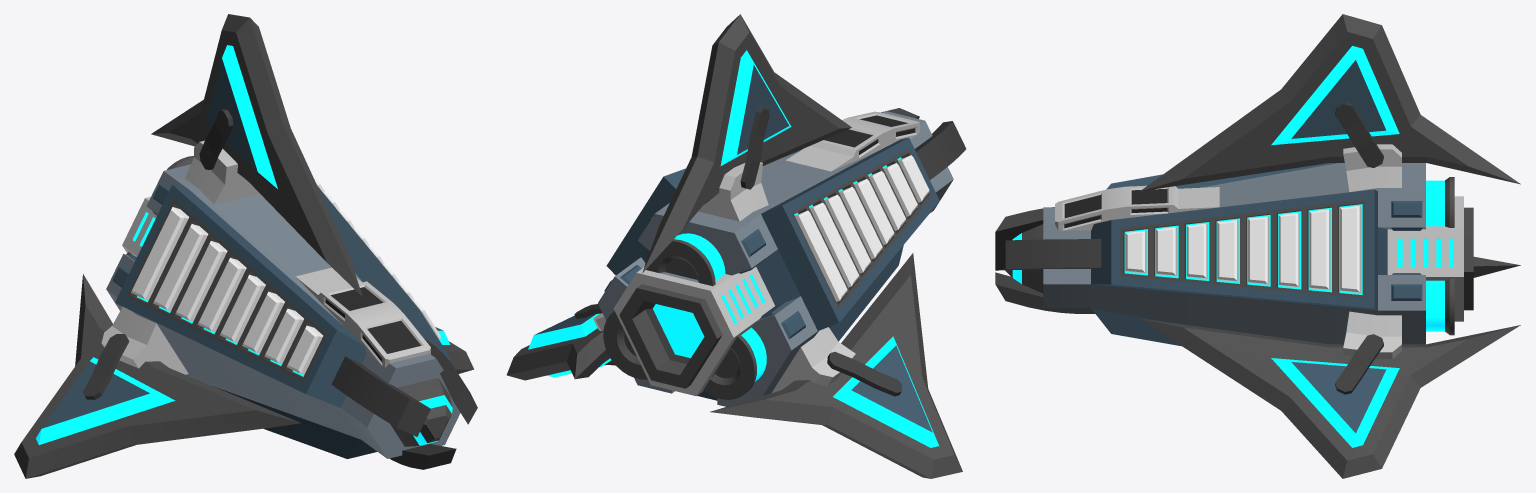
The model's file is Freighter05.fbx.
3 renders of one model, left to right at view 1: azimuth 30°, elevation 25°; view 2: azimuth 150°, elevation 25°; view 3: azimuth 270°, elevation 25°, orthographic. The views are drawn at different scales.
Parts seen in each view (by area): view 1: Mesh_HD; view 2: Mesh_HD; view 3: Mesh_HD.
Boxes of the visible parts, left/top/right/bottom form: Mesh_HD: left=14, top=14, right=477, bottom=478; Mesh_HD: left=506, top=14, right=966, bottom=478; Mesh_HD: left=995, top=14, right=1520, bottom=478.
Bounding box in the file's own units: 488 × 426 × 550.
